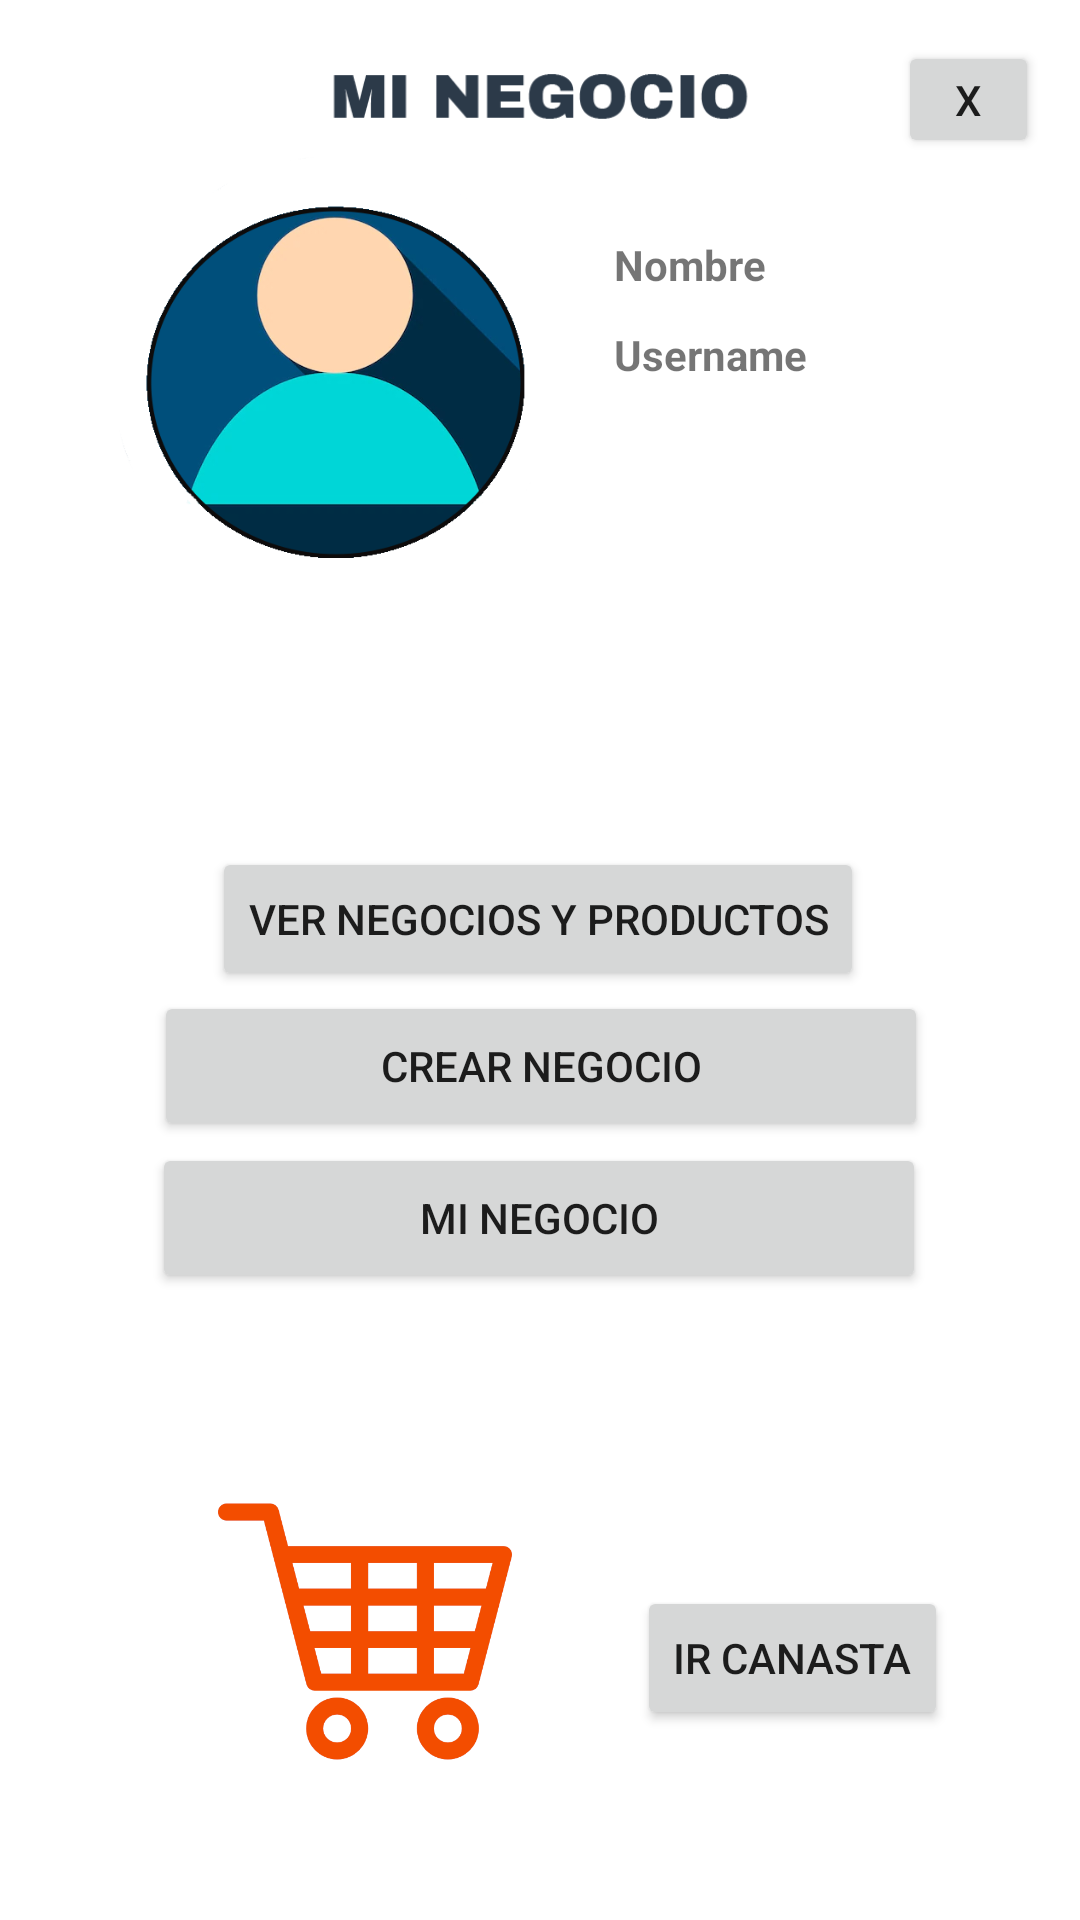

Where icons sit on this 1080px x 1920px app screen, as (x1, y1, x2, y2):
carrito: (218, 1503, 512, 1760)
